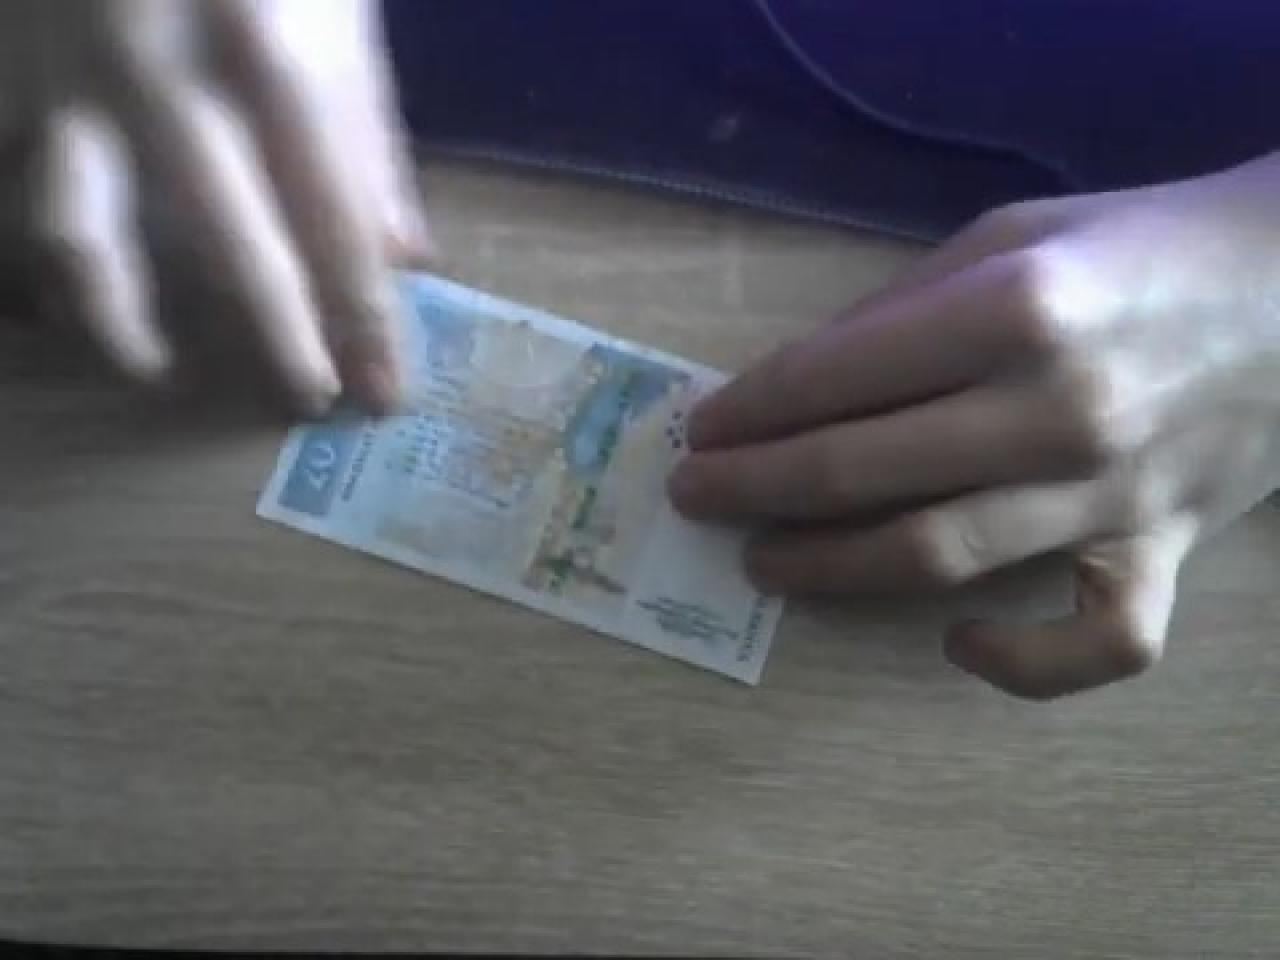20leva: (256, 274, 784, 688)
